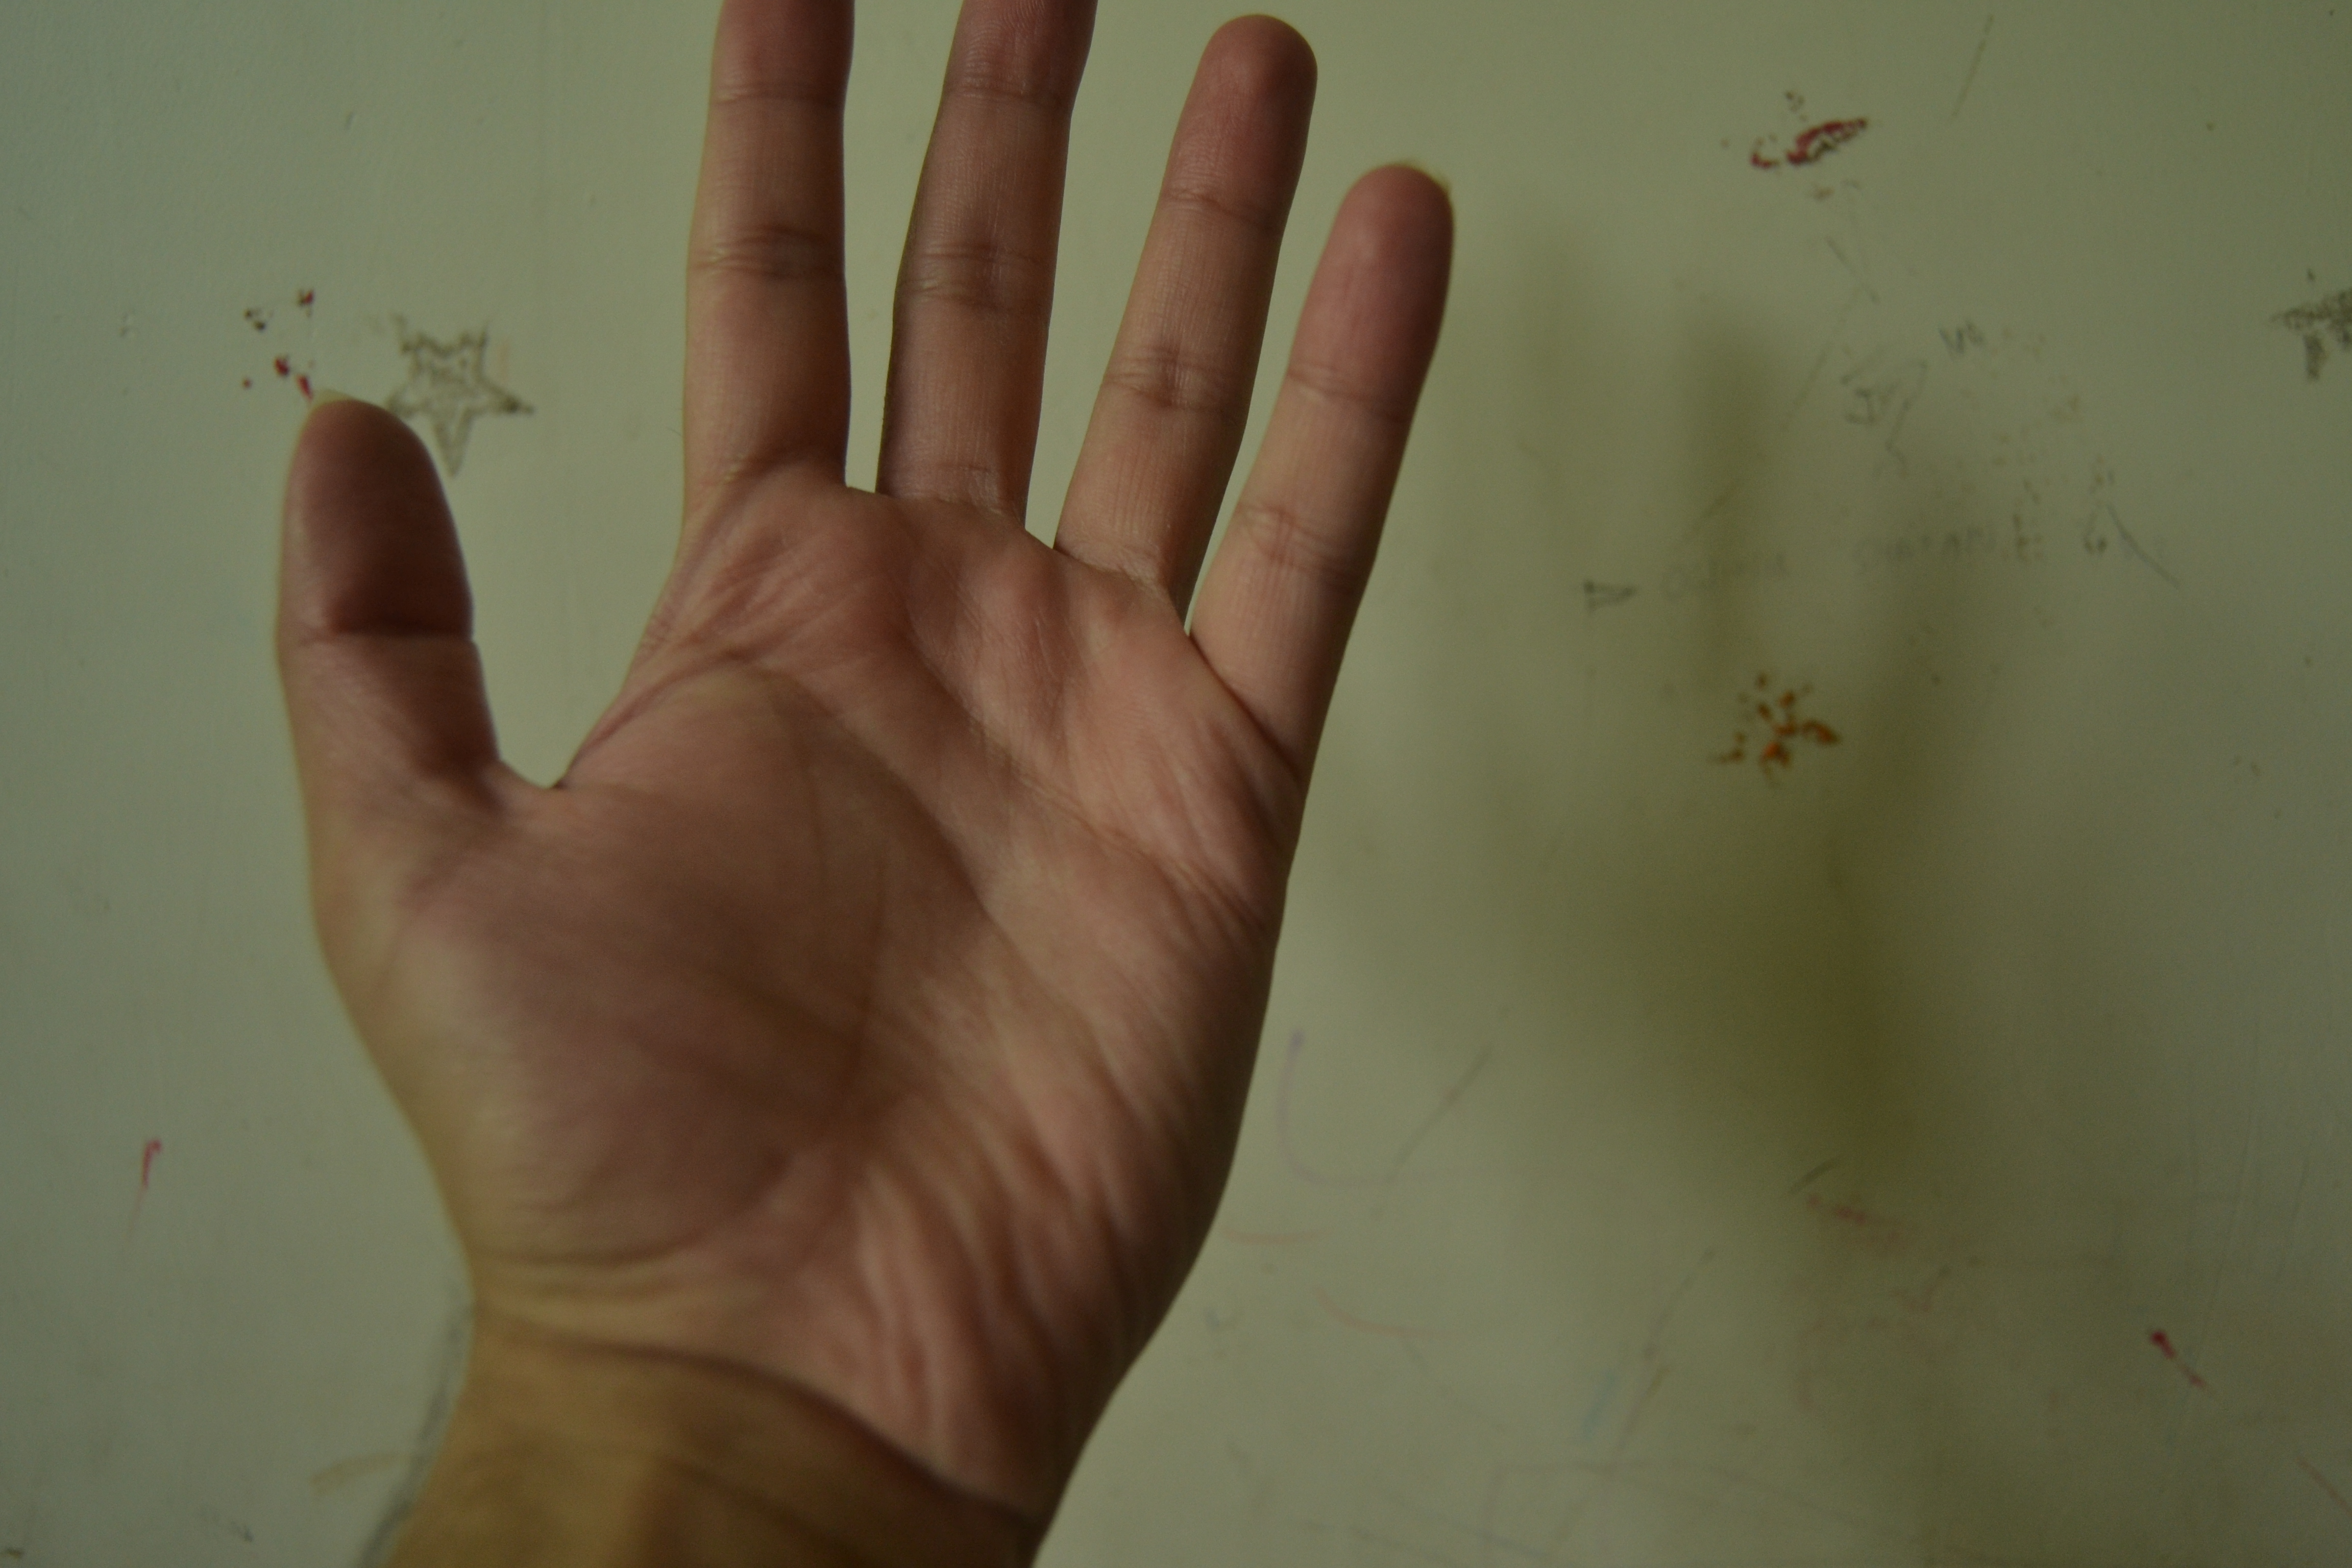move: (213, 30, 1484, 1405)
